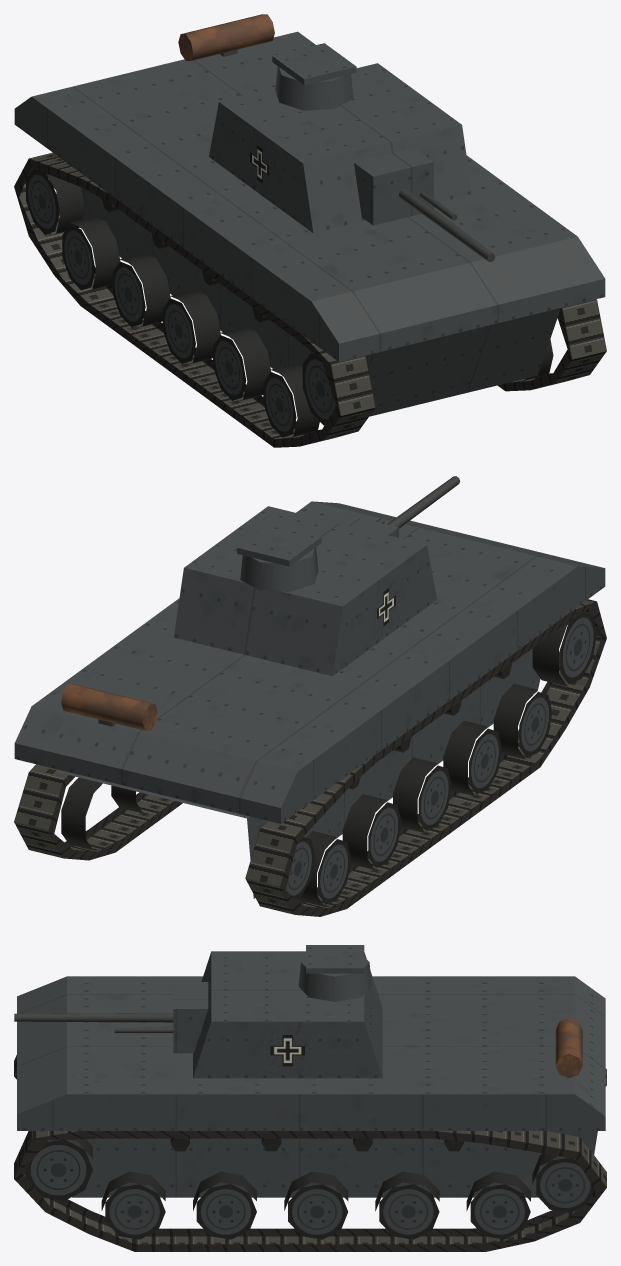
The model's file is armor-1.glb.
3 views of the same model, one above another, from view 1: azimuth 30°, elevation 25°; view 2: azimuth 150°, elevation 25°; view 3: azimuth 270°, elevation 25° (orthographic). The views are drawn at different scales.
Visible parts, largest first — view 1: hull, turret, tracks_right, gun, tracks_left, galet_right_3, galet_right_2, galet_right_1, galet_right_4, galet_right_5, roue_folle_right, hatch (+1 smaller); view 2: hull, turret, tracks_right, tracks_left, galet_right_2, galet_right_3, galet_right_5, galet_right_4, barbotin_right, galet_right_1, hatch, galet_left_1 (+2 smaller); view 3: hull, turret, tracks_left, gun, galet_left_1, galet_left_5, galet_left_2, galet_left_4, galet_left_3, barbotin_left, roue_folle_left, hatch.
Boxes of the visible parts, bbox=[...] form: hull: bbox=[14, 14, 605, 416]; turret: bbox=[209, 63, 471, 233]; tracks_right: bbox=[14, 152, 375, 447]; gun: bbox=[354, 148, 495, 261]; tracks_left: bbox=[497, 299, 606, 391]; galet_right_3: bbox=[162, 290, 220, 365]; galet_right_2: bbox=[112, 253, 170, 328]; galet_right_1: bbox=[62, 216, 120, 291]; galet_right_4: bbox=[213, 327, 271, 402]; galet_right_5: bbox=[263, 363, 319, 437]; roue_folle_right: bbox=[26, 169, 84, 235]; hatch: bbox=[272, 43, 356, 85]; hull: bbox=[14, 501, 605, 898]; turret: bbox=[174, 506, 436, 676]; tracks_right: bbox=[245, 599, 606, 916]; tracks_left: bbox=[14, 764, 182, 860]; galet_right_2: bbox=[342, 794, 401, 869]; galet_right_3: bbox=[393, 757, 451, 832]; galet_right_5: bbox=[493, 683, 552, 759]; galet_right_4: bbox=[443, 720, 501, 796]; barbotin_right: bbox=[532, 612, 596, 686]; galet_right_1: bbox=[298, 831, 351, 906]; hatch: bbox=[237, 524, 321, 566]; galet_left_1: bbox=[61, 777, 102, 850]; hull: bbox=[17, 976, 605, 1197]; turret: bbox=[193, 951, 382, 1078]; tracks_left: bbox=[14, 1131, 606, 1251]; gun: bbox=[14, 982, 208, 1053]; galet_left_1: bbox=[466, 1171, 530, 1239]; galet_left_5: bbox=[101, 1171, 165, 1239]; galet_left_2: bbox=[375, 1171, 439, 1239]; galet_left_4: bbox=[193, 1171, 256, 1239]; galet_left_3: bbox=[284, 1171, 348, 1239]; barbotin_left: bbox=[26, 1139, 92, 1200]; roue_folle_left: bbox=[532, 1153, 594, 1212]; hatch: bbox=[306, 945, 364, 973].
Bounding box in the file's own units: 2.28 × 2.2 × 4.84.
Materials: 5 (5 with a texture image).
